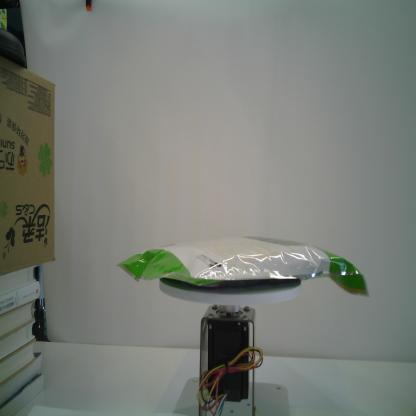Dried Food: (111, 235, 370, 303)
